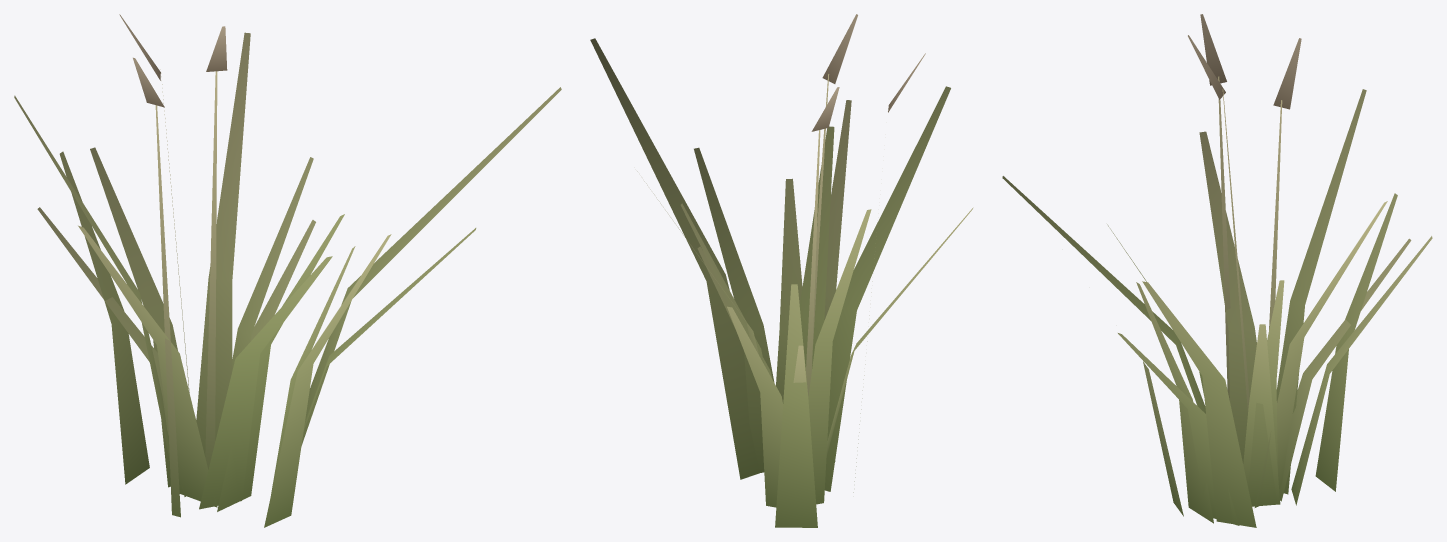
The model's file is canna_1_leggero.glb.
The picture shows the model from 3 angles, left to right: view 1: azimuth 30°, elevation 25°; view 2: azimuth 150°, elevation 25°; view 3: azimuth 270°, elevation 25°; orthographic projection. The views are drawn at different scales.
Visible parts, largest first — view 1: canna_1_leggero; view 2: canna_1_leggero; view 3: canna_1_leggero.
Boxes of the visible parts, left/top/right/bottom form: canna_1_leggero: left=14, top=14, right=561, bottom=527; canna_1_leggero: left=590, top=14, right=973, bottom=527; canna_1_leggero: left=1002, top=14, right=1432, bottom=527.
Bounding box in the file's own units: 2.89 × 3.09 × 2.66.
